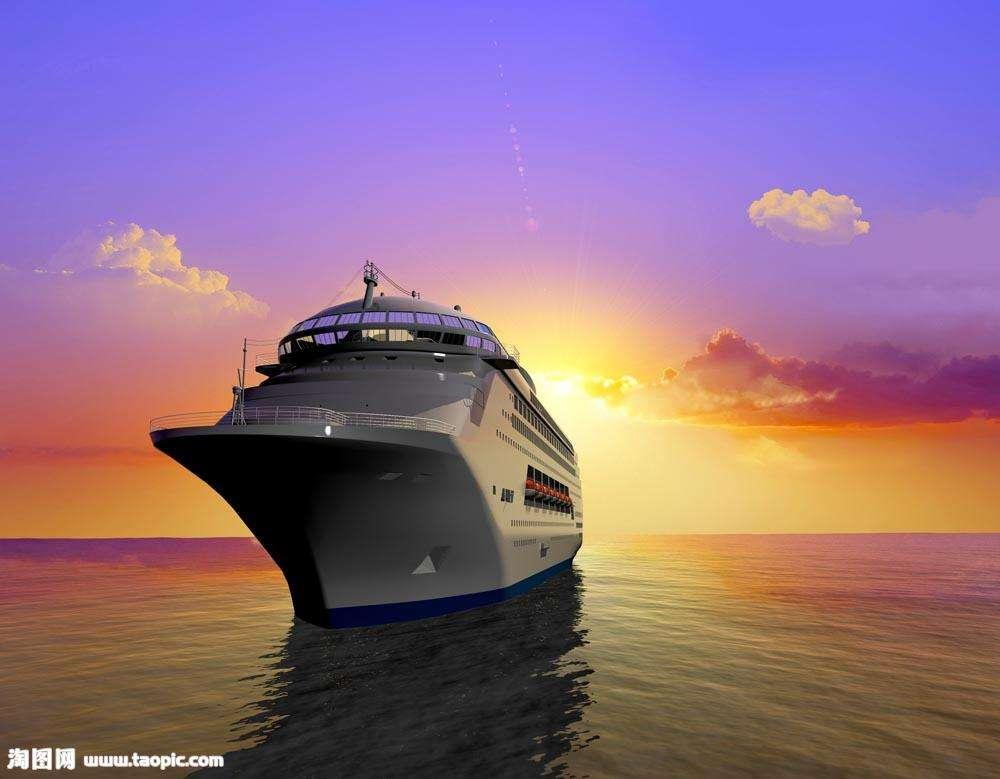youlun: (142, 257, 587, 645)
